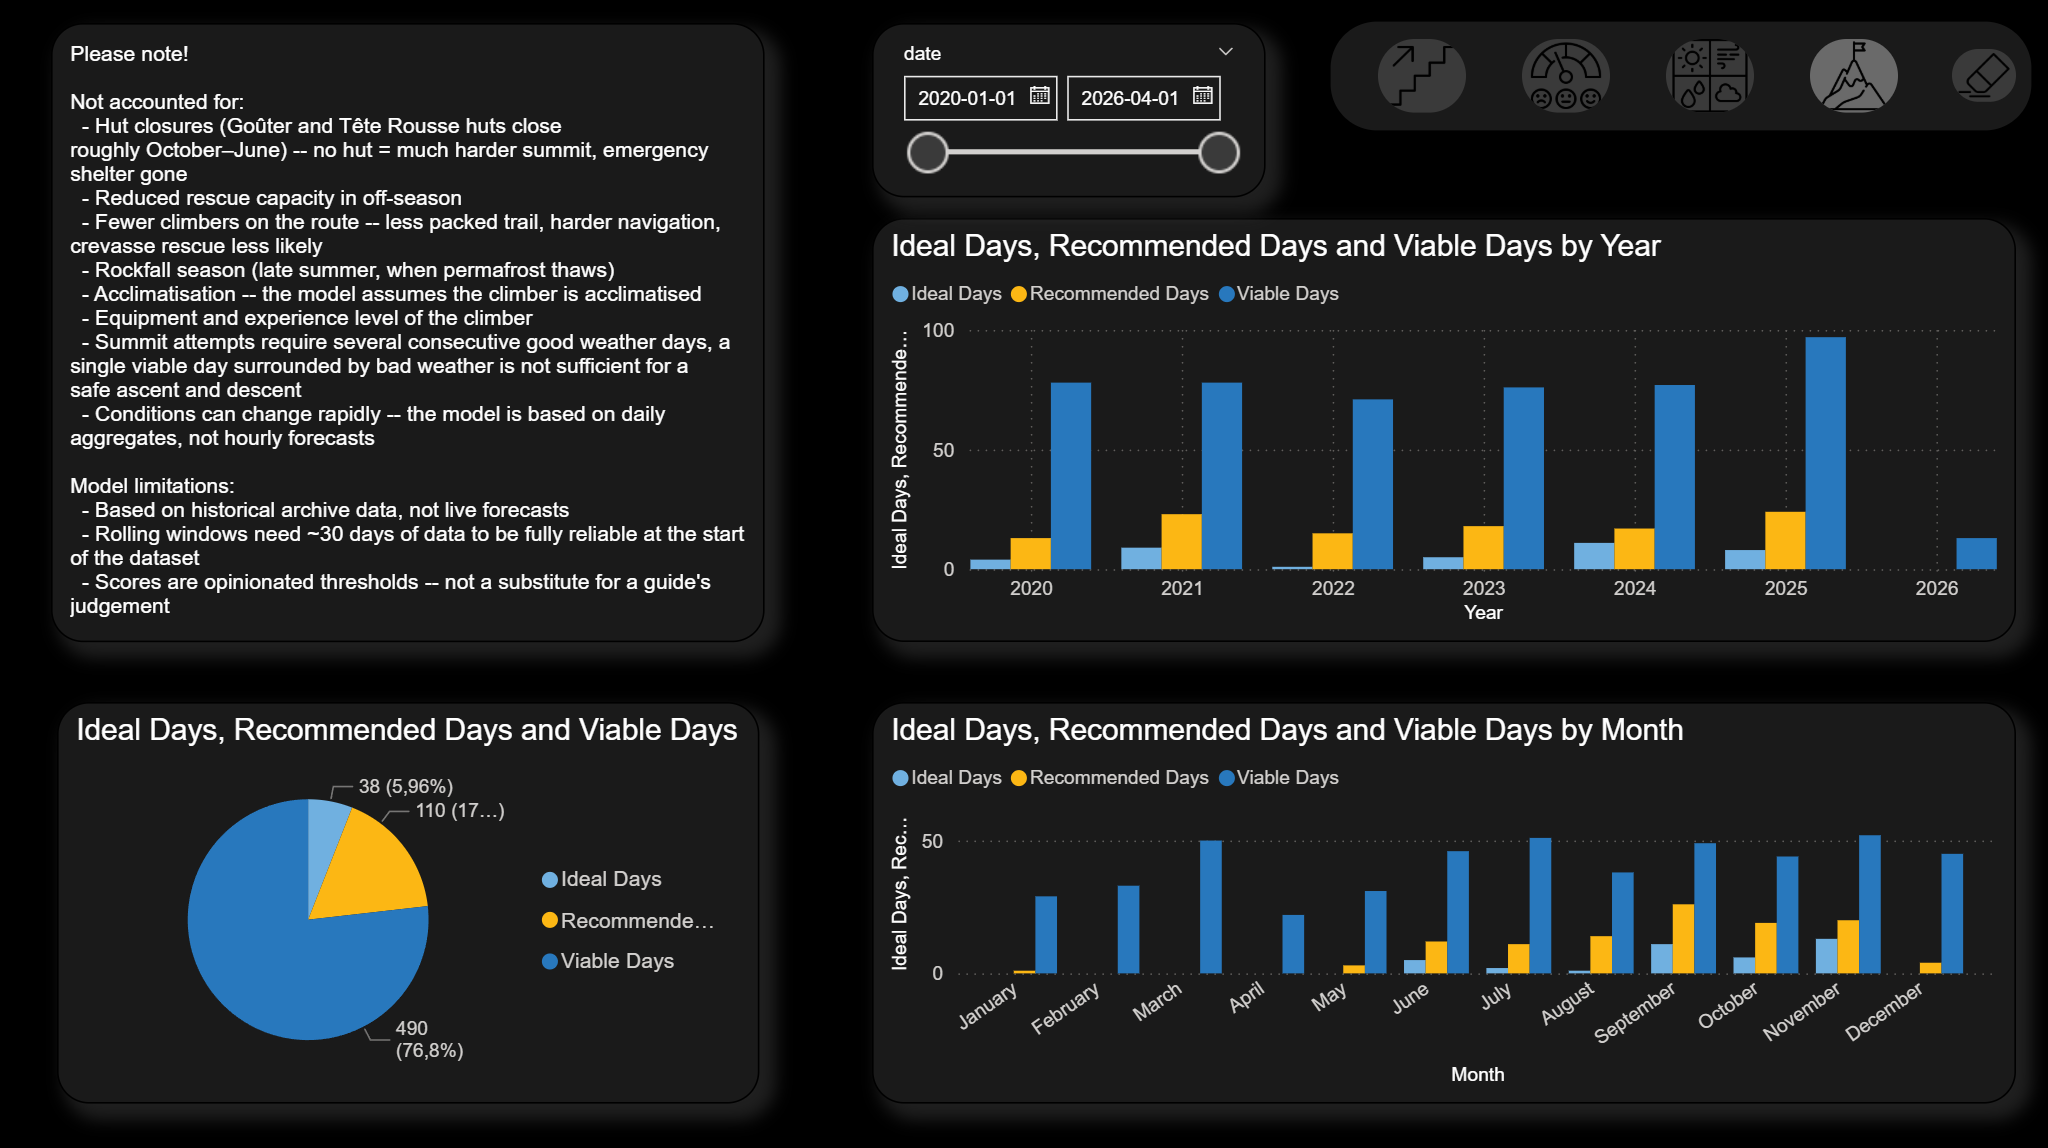

What the dashboard file says about the page in this screenshot:
{"tool":"powerbi","page":{"name":"Summit window","canvas":[1280,720],"ordinal":0},"visuals":[{"type":"clusteredColumnChart","fields":{"Y":["Measure.Ideal Days","Table.Recommended Days","daily_conditions.Viable Days"],"Category":["date_spine.date.Variation.Date Hierarchy.Year"]},"box":[545,137.1,715,265],"z":0},{"type":"clusteredColumnChart","fields":{"Y":["summit_window.Ideal Days","Table.Recommended Days","daily_conditions.Viable Days"],"Category":["date_spine.date.Variation.Date Hierarchy.Month"]},"box":[545.1,439.6,715.2,251.1],"z":1000},{"type":"pieChart","fields":{"Y":["summit_window.Ideal Days","Table.Recommended Days","daily_conditions.Viable Days"]},"box":[35.4,439.6,438.9,251.1],"z":2000},{"type":"slicer","fields":{"Values":["date_spine.date"]},"box":[545.1,15,245.7,108.9],"z":3000},{"type":"textbox","box":[32.1,15,445.7,387.1],"z":4000},{"type":"shape","box":[830.8,13.1,440,70],"z":5000},{"type":"image","box":[1041.2,25,55,46.2],"z":6000},{"type":"image","box":[951.2,25,55,46.2],"z":7000},{"type":"image","box":[861.2,25,55,46.2],"z":8000},{"type":"image","box":[1220,31.2,40,32.5],"z":9000},{"type":"image","box":[1131.2,25,55,46.2],"z":10000}]}

Visuals, with their boxes in screenshot pixels (x1, y1, x2, y2), scaled from the page's 1280x720 canvas onto the 2048x1148 screenshot:
clusteredColumnChart - Measure.Ideal Days x Table.Recommended Days: {"left": 872, "top": 219, "right": 2016, "bottom": 641}
clusteredColumnChart - summit_window.Ideal Days x Table.Recommended Days: {"left": 872, "top": 701, "right": 2016, "bottom": 1101}
pieChart - summit_window.Ideal Days x Table.Recommended Days: {"left": 57, "top": 701, "right": 759, "bottom": 1101}
slicer - date_spine.date: {"left": 872, "top": 24, "right": 1265, "bottom": 198}
textbox: {"left": 51, "top": 24, "right": 764, "bottom": 641}
shape: {"left": 1329, "top": 21, "right": 2033, "bottom": 132}
image: {"left": 1666, "top": 40, "right": 1754, "bottom": 114}
image: {"left": 1522, "top": 40, "right": 1610, "bottom": 114}
image: {"left": 1378, "top": 40, "right": 1466, "bottom": 114}
image: {"left": 1952, "top": 50, "right": 2016, "bottom": 102}
image: {"left": 1810, "top": 40, "right": 1898, "bottom": 114}
